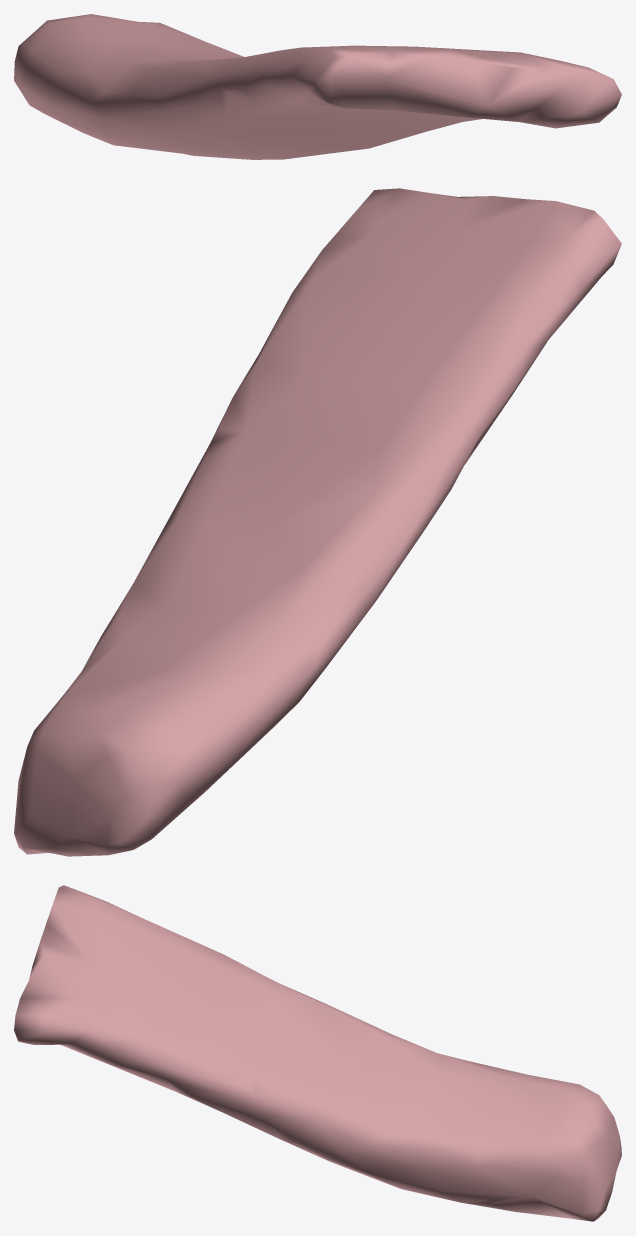
The model's file is fma56786_mm1053.glb.
3 views of the same model, one above another, from view 1: azimuth 30°, elevation 25°; view 2: azimuth 150°, elevation 25°; view 3: azimuth 270°, elevation 25° (orthographic). The views are drawn at different scales.
Visible parts, largest first — view 1: FMA56786_MM1053; view 2: FMA56786_MM1053; view 3: FMA56786_MM1053.
Part boxes in pixels (x1=…): FMA56786_MM1053: x1=14, y1=14, x2=621, y2=159; FMA56786_MM1053: x1=14, y1=188, x2=621, y2=856; FMA56786_MM1053: x1=14, y1=885, x2=621, y2=1221.
Bounding box in the file's own units: 0.00102 × 0.00134 × 0.0027.
